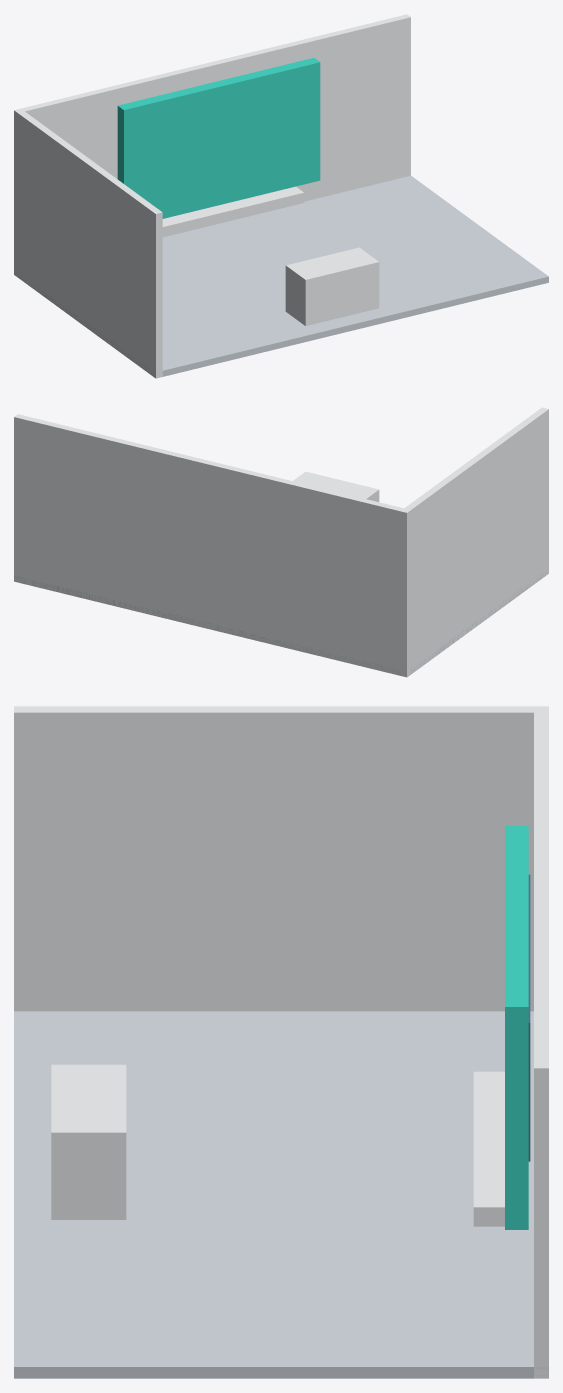
3 views of the same model, one above another, from view 1: azimuth 30°, elevation 25°; view 2: azimuth 150°, elevation 25°; view 3: azimuth 270°, elevation 25° (orthographic). The views are drawn at different scales.
Visible parts, largest first — view 1: Exhibition Booth Concept; view 2: Exhibition Booth Concept; view 3: Exhibition Booth Concept.
Boxes of the visible parts, x1,y1,x2,y2 form: Exhibition Booth Concept: (14, 14, 548, 378); Exhibition Booth Concept: (14, 407, 548, 677); Exhibition Booth Concept: (14, 706, 548, 1378).
Bounding box in the file's own units: 8 × 3.2 × 5.
